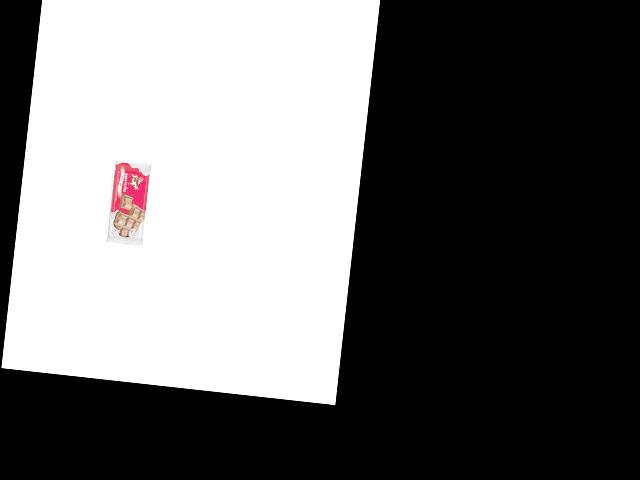chocolate: (105, 159, 152, 249)
